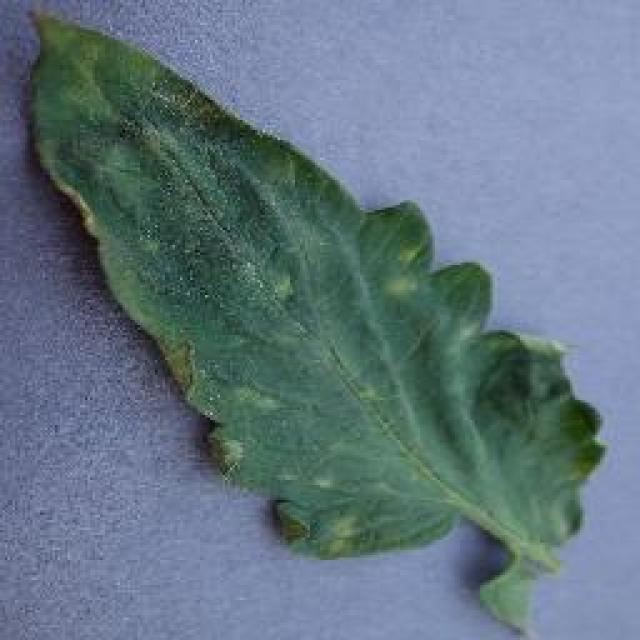Tomato mold leaf: (25, 9, 610, 596)
